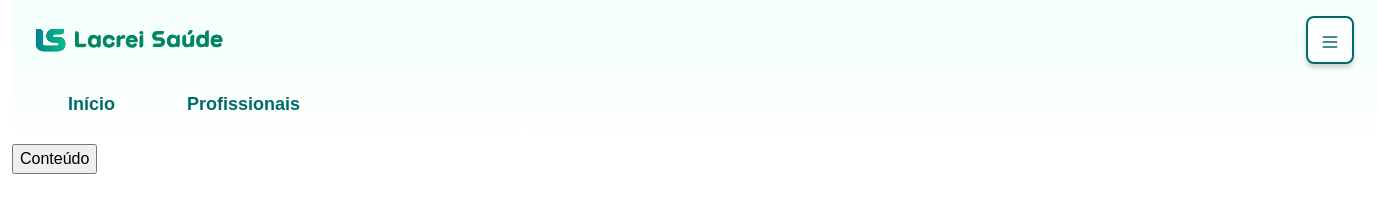
Scenario: Header e footer responsivos › fecha por Escape e restaura foco mesmo após sair da navegação não modal
Click the button named "Abrir menu" at (1330, 40), box [1306, 16, 1354, 64]
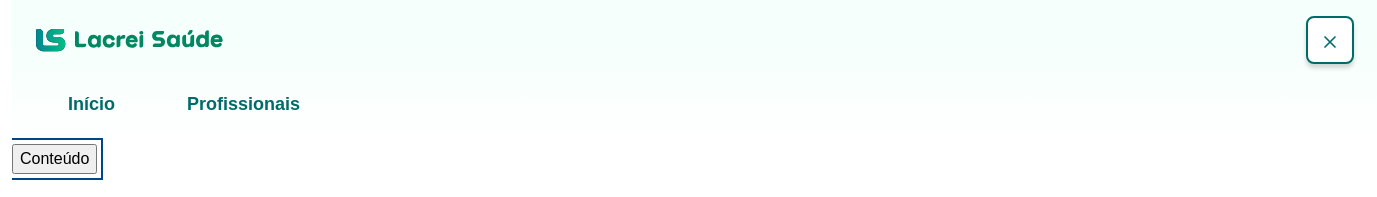
Press Escape
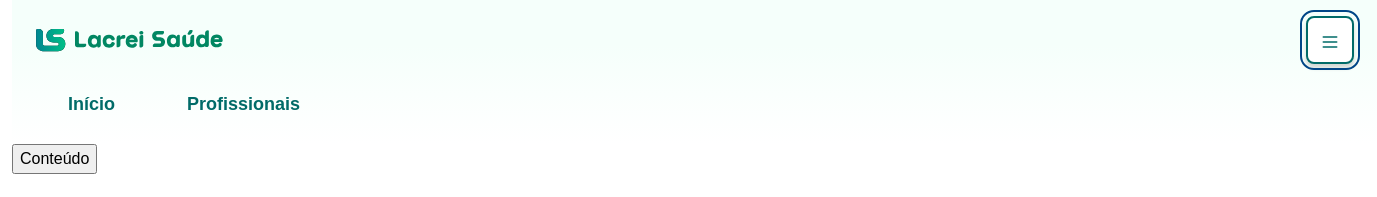
Result: the button named "Abrir menu" is collapsed at [1306, 16, 1354, 64]
